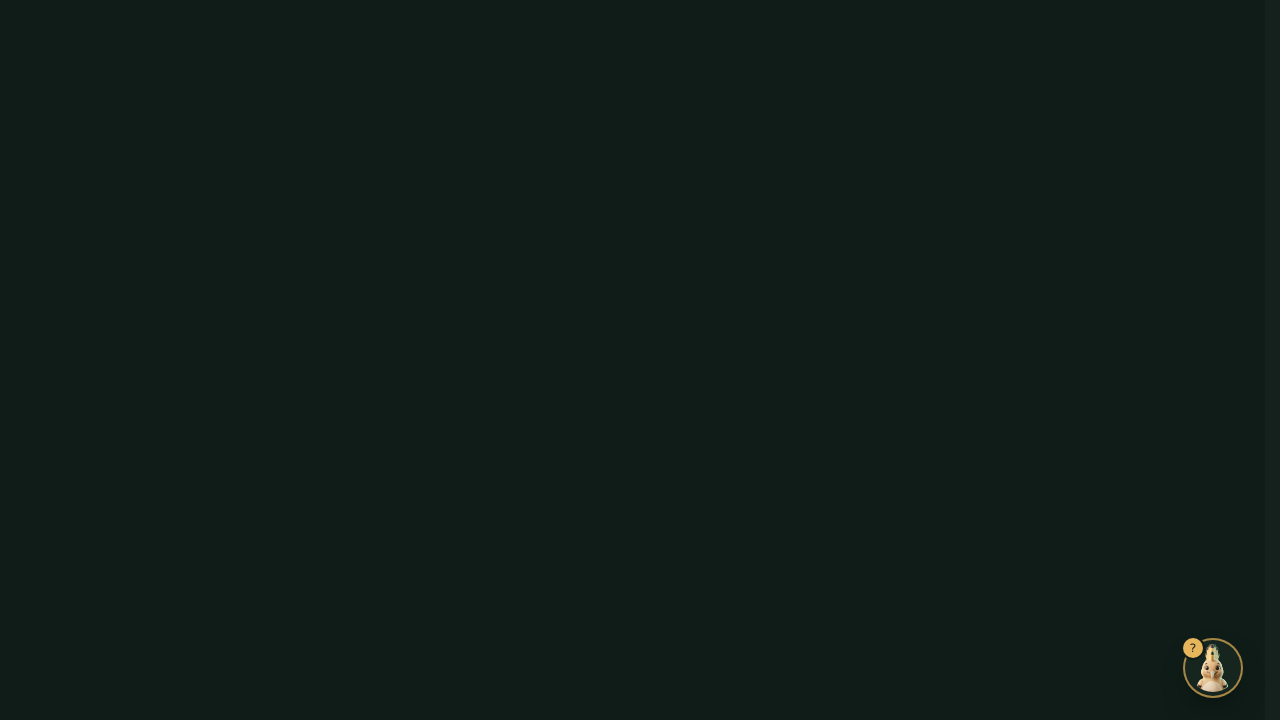
Test: SupportChat — פתיחת פנייה › without a chat there is nothing to attach; the server's field errors are shown; the honeypot is out of reach
Click the button named "שאלות ותמיכה" at [1213, 668], box top-left (1185, 640), bottom-right (1241, 696)
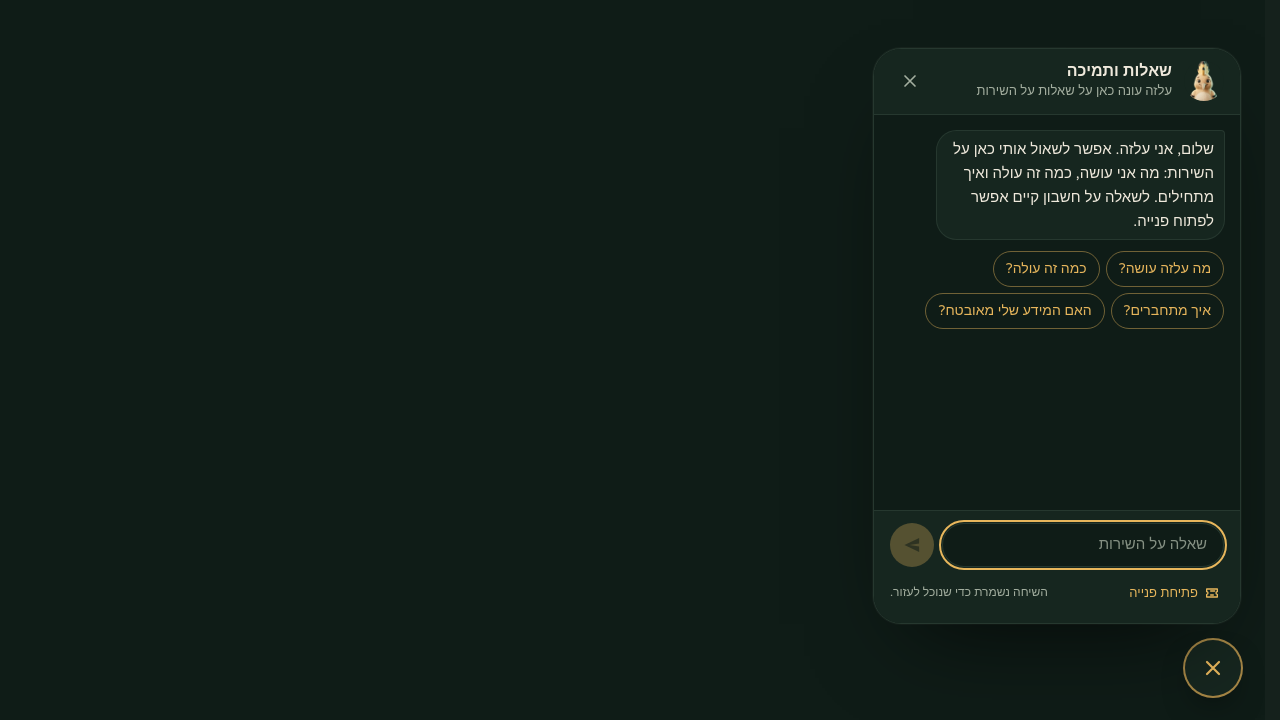
Click the button "פתיחת פנייה" at [1175, 593], box top-left (1125, 575), bottom-right (1224, 611)
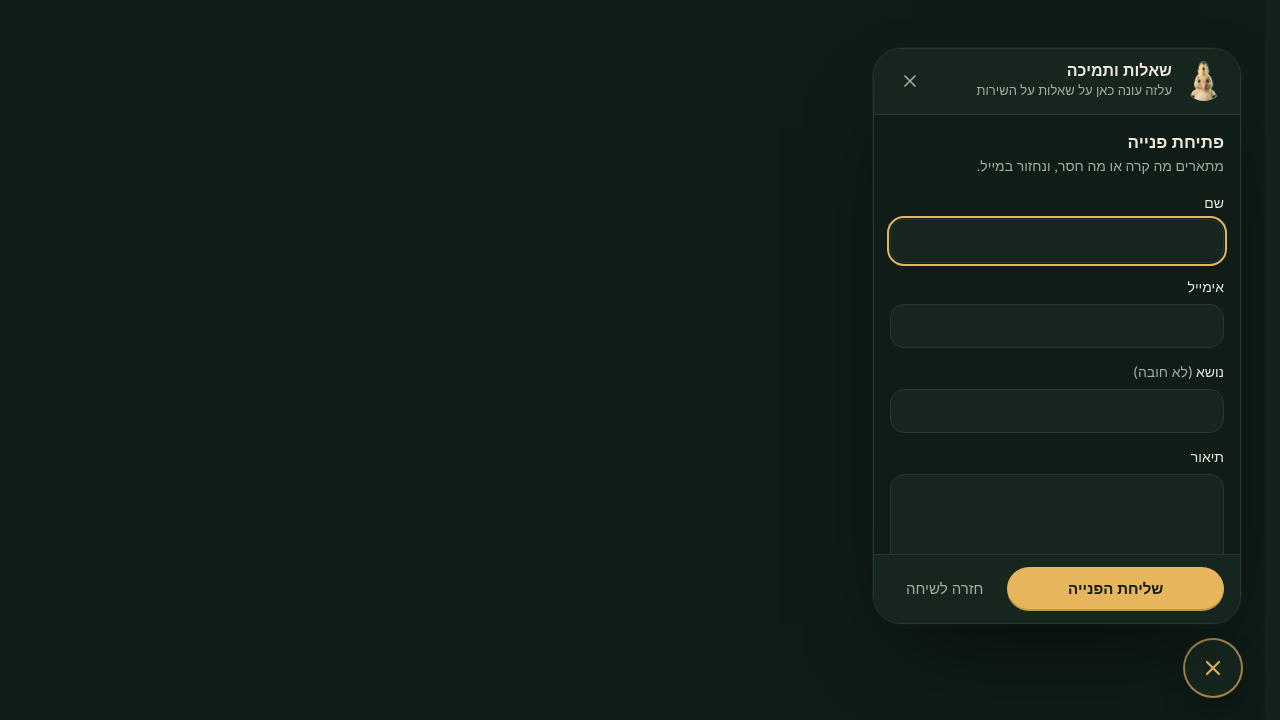
Type "דנה" into the field labelled "שם" at [1057, 241], box top-left (890, 219), bottom-right (1224, 264)
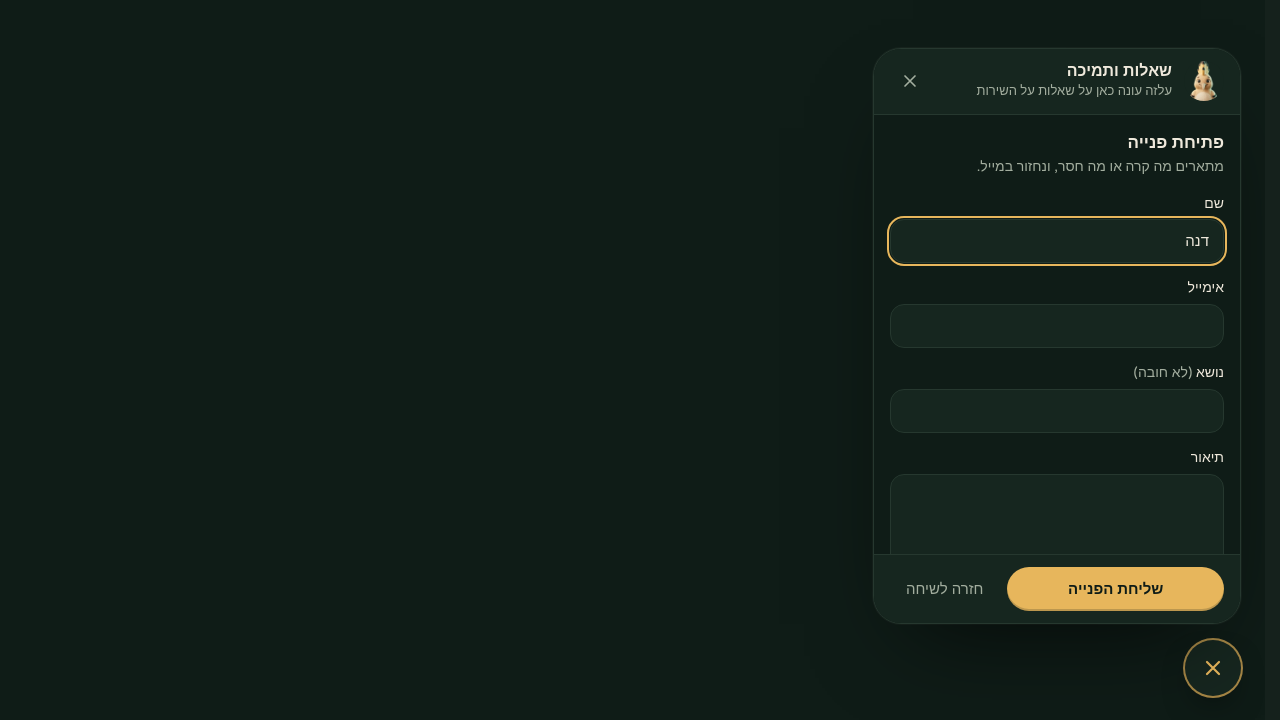
Type "dana@" into the field labelled "אימייל" at [1057, 326], box top-left (890, 304), bottom-right (1224, 348)
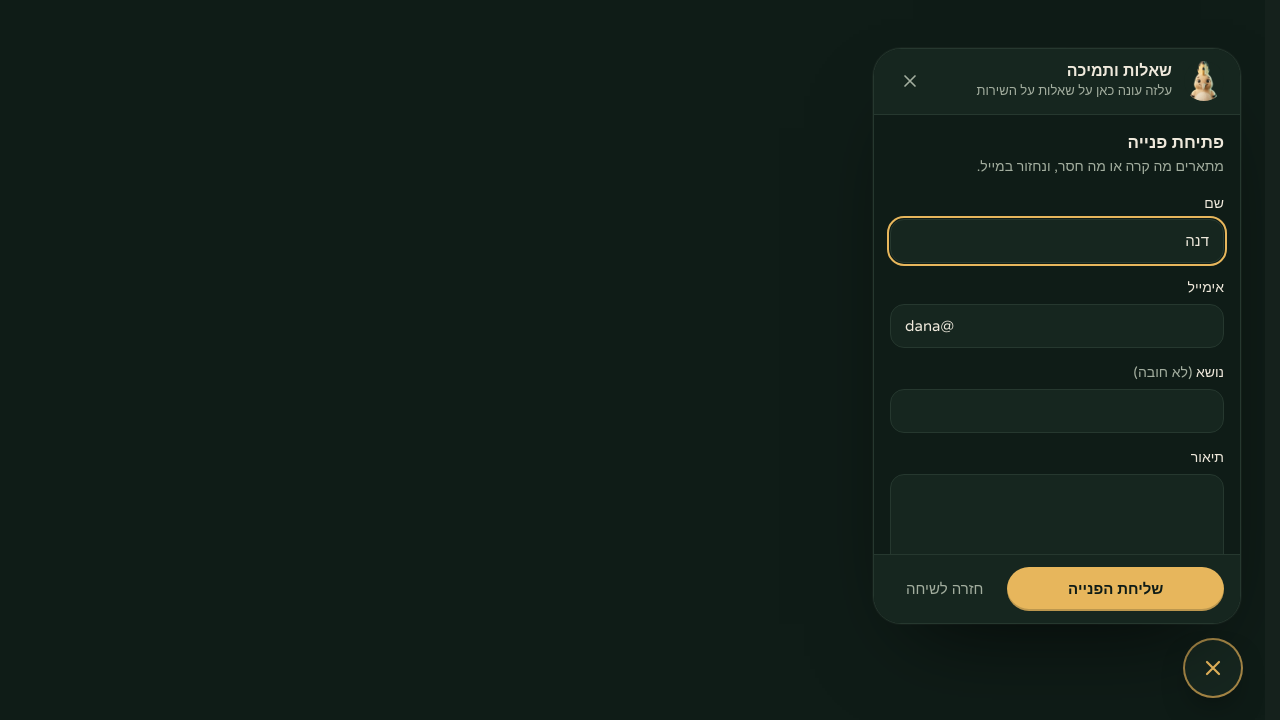
Type "שאלה על חשבונית" into the text box labelled "תיאור" at [1057, 530], box top-left (890, 474), bottom-right (1224, 586)
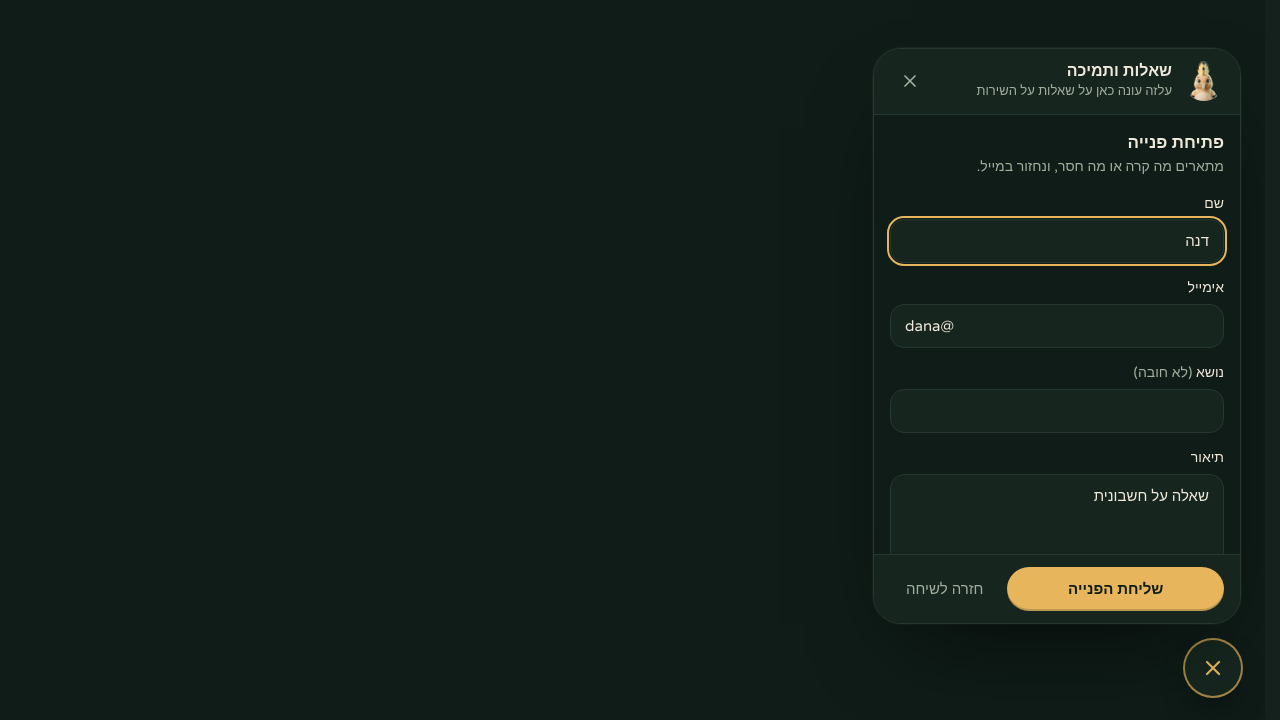
Click the button "שליחת הפנייה" at [1116, 589], box top-left (1007, 567), bottom-right (1224, 611)
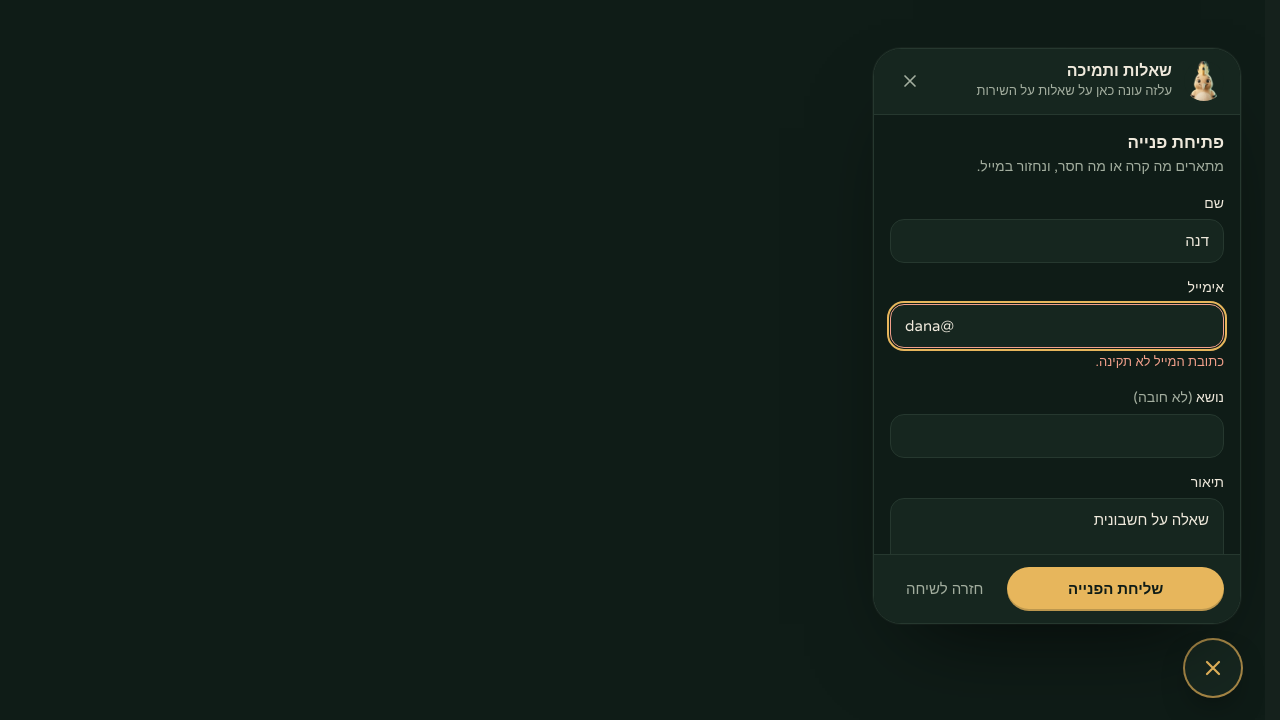
Expected: the text "כתובת המייל לא תקינה." is shown, top-left (1096, 354), bottom-right (1224, 370)
